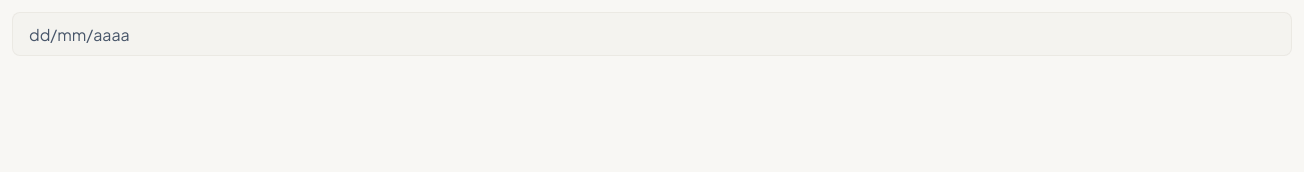
it: InputFechaNacimiento › se escribe la fecha de corrido y entrega la fecha ISO
Type "15031985" into the field named "Fecha de nacimiento".
click(652, 34); type("15031985")  # box [12,12,1292,56]
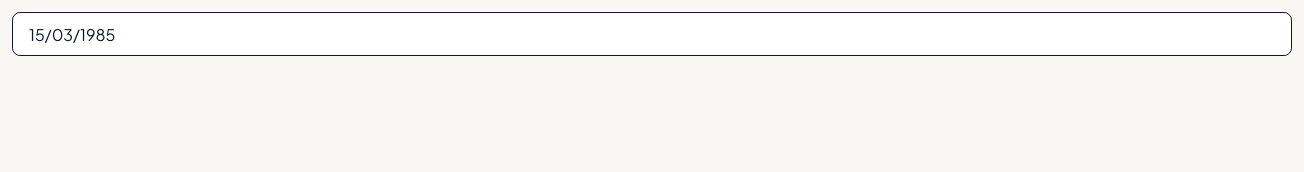
Expected: the field named "Fecha de nacimiento" holds "15/03/1985", [12,12,1292,56]
